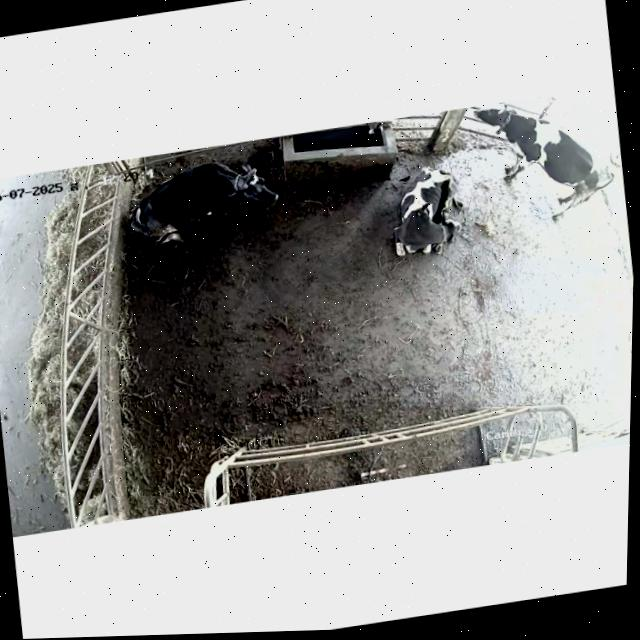stand: (463, 85, 622, 238)
